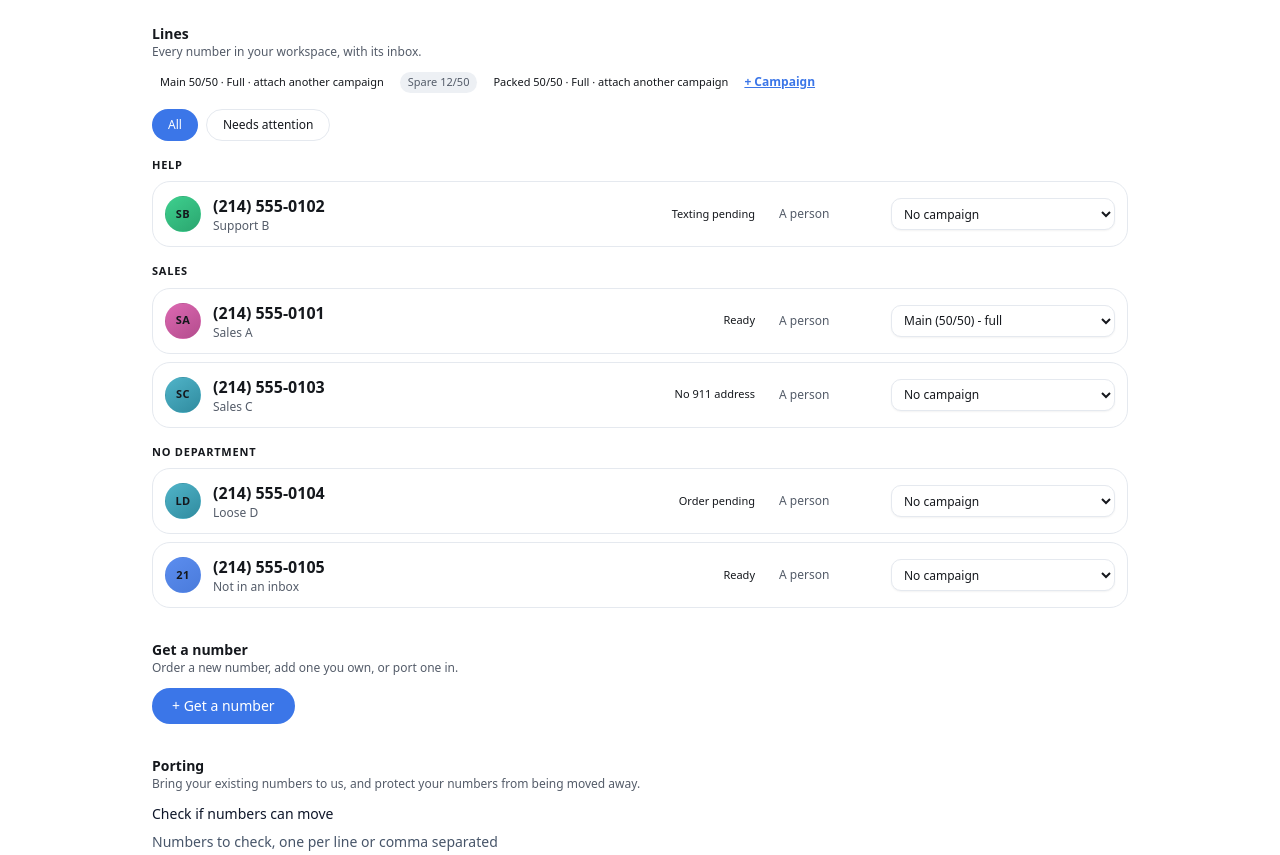
Test: LinesPage › filters to lines that need attention
The width and height of the screenshot is (1280, 855).
expect the text "Sales A" is shown: met, box x1=213 y1=324 x2=253 y2=340
Click the button "Needs attention" at (268, 124), box x1=206 y1=108 x2=330 y2=140
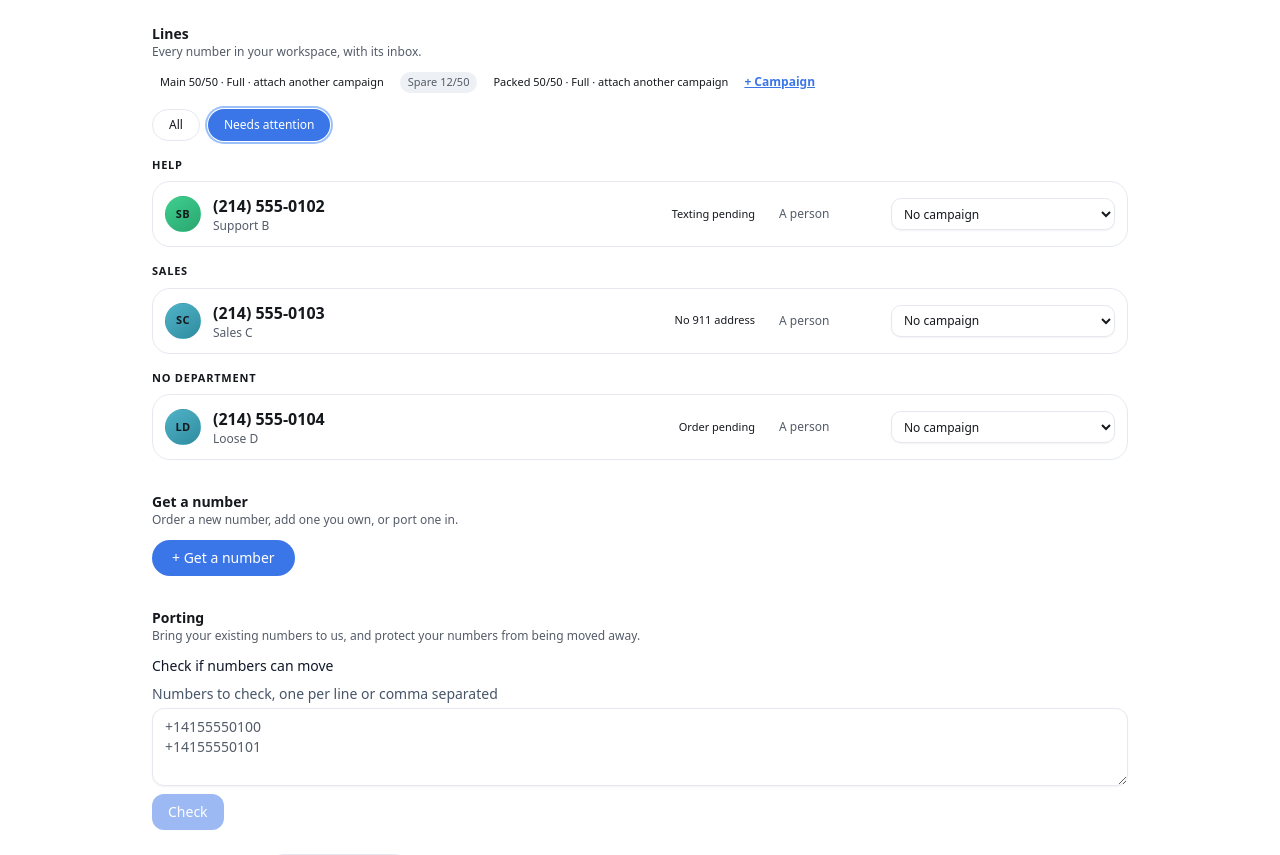
expect the text "Sales C" is shown: met, box x1=213 y1=324 x2=253 y2=340
expect the button "Not in an inbox" is gone: met
